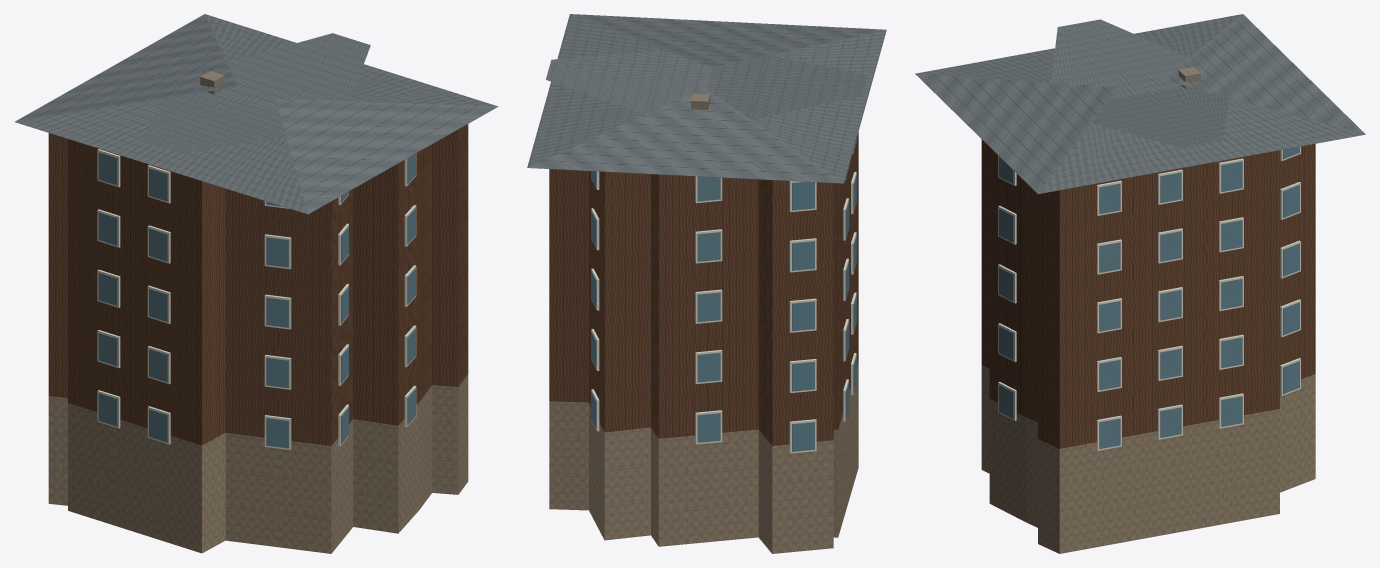
The model's file is core_0081.gltf.
3 renders of one model, left to right at view 1: azimuth 30°, elevation 25°; view 2: azimuth 150°, elevation 25°; view 3: azimuth 270°, elevation 25°, orthographic. The views are drawn at different scales.
Visible parts, largest first — view 1: core_0081; view 2: core_0081; view 3: core_0081.
Part boxes in pixels (x1,y1,x2,y2): core_0081: (15, 14, 498, 553); core_0081: (527, 14, 886, 553); core_0081: (915, 14, 1365, 553).
Bounding box in the file's own units: 18.77 × 19.05 × 19.83.
Materials: 6 (6 with a texture image).
